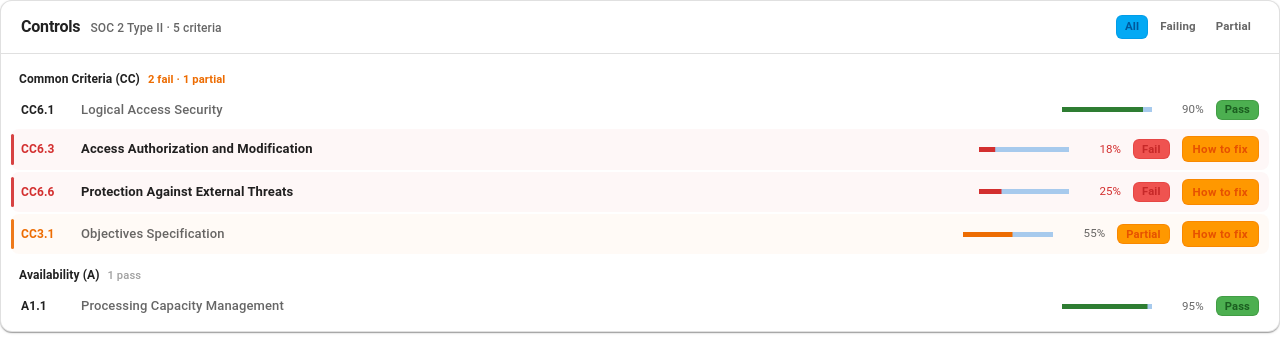
Test: ControlHeatmap › filter chip All restores all controls
What coordinates should you click on to do the following:
click the button "Failing"
I would click on:
 (1178, 26)
Its box is left=1160, top=19, right=1196, bottom=33.
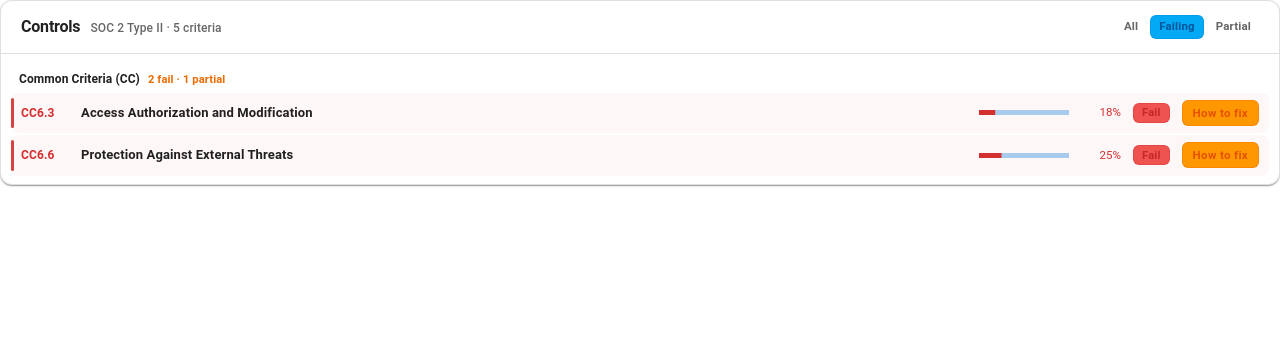
What coordinates should you click on to do the following:
click the button "All"
I would click on:
 (1131, 26)
Its box is left=1124, top=19, right=1138, bottom=33.
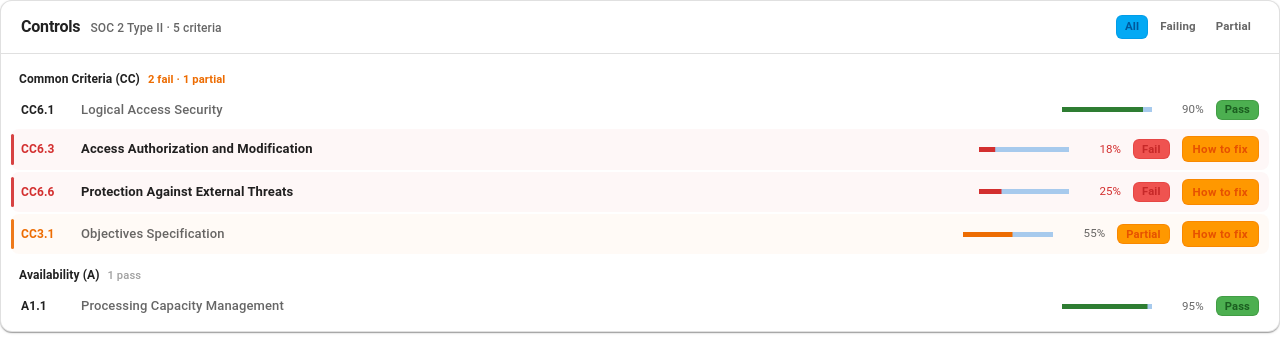
Check: the text "CC6.1" is shown, box left=21, top=103, right=54, bottom=117
